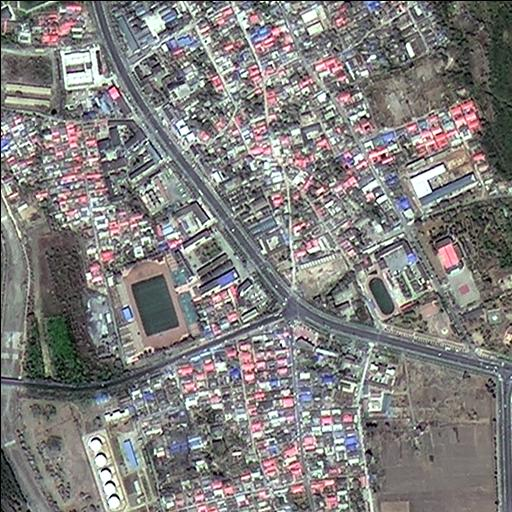school: (110, 225, 238, 352), (349, 236, 436, 324)
